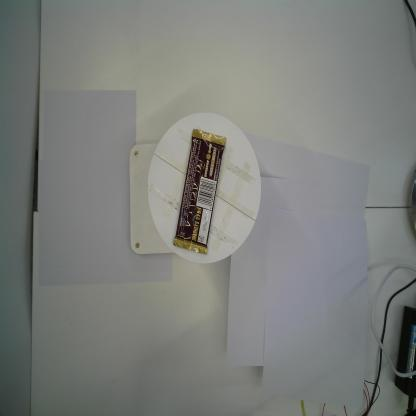Chocolate: (172, 127, 228, 256)
